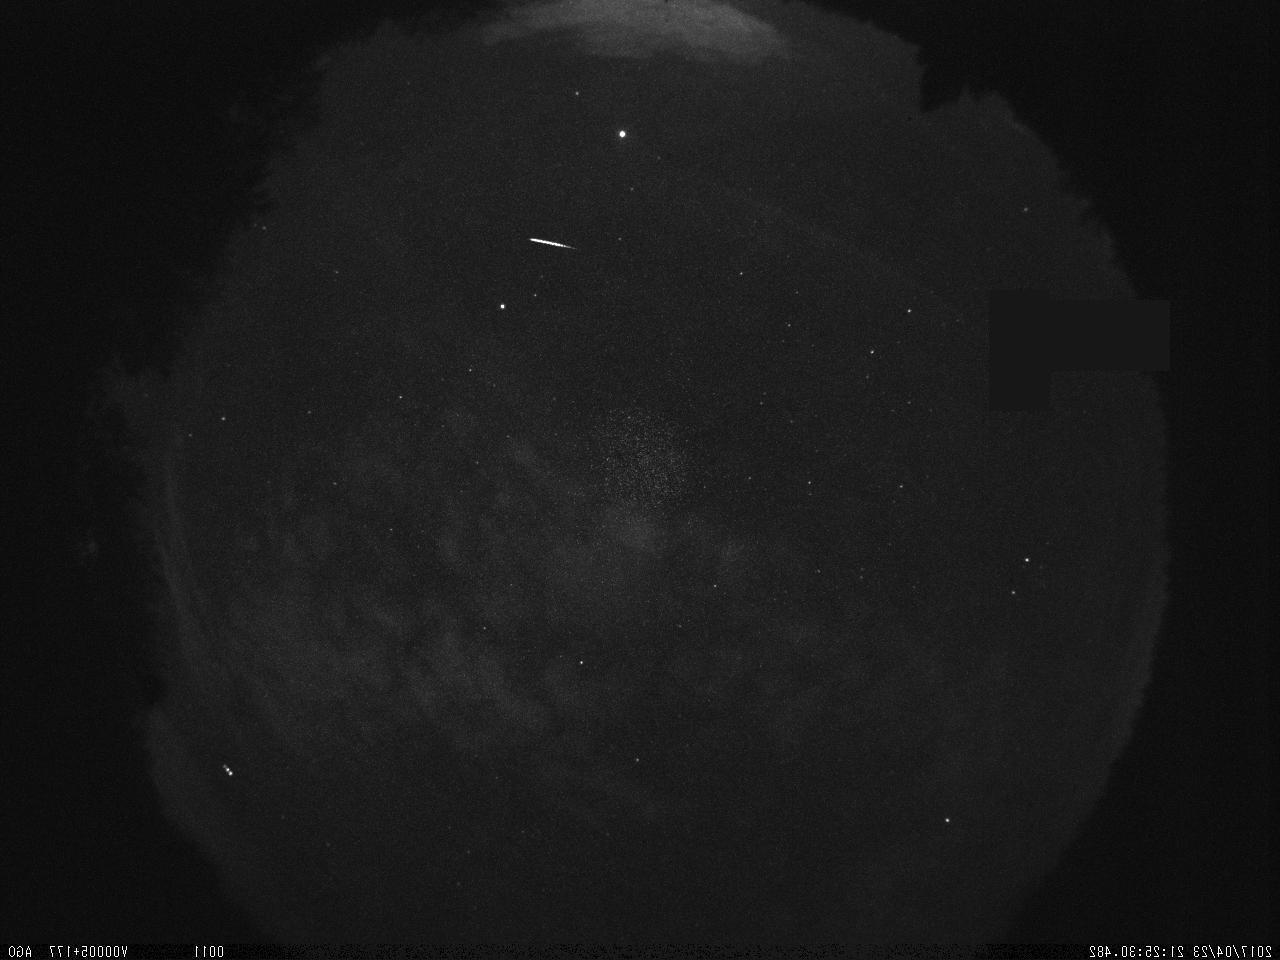meteor: (521, 222, 587, 263)
